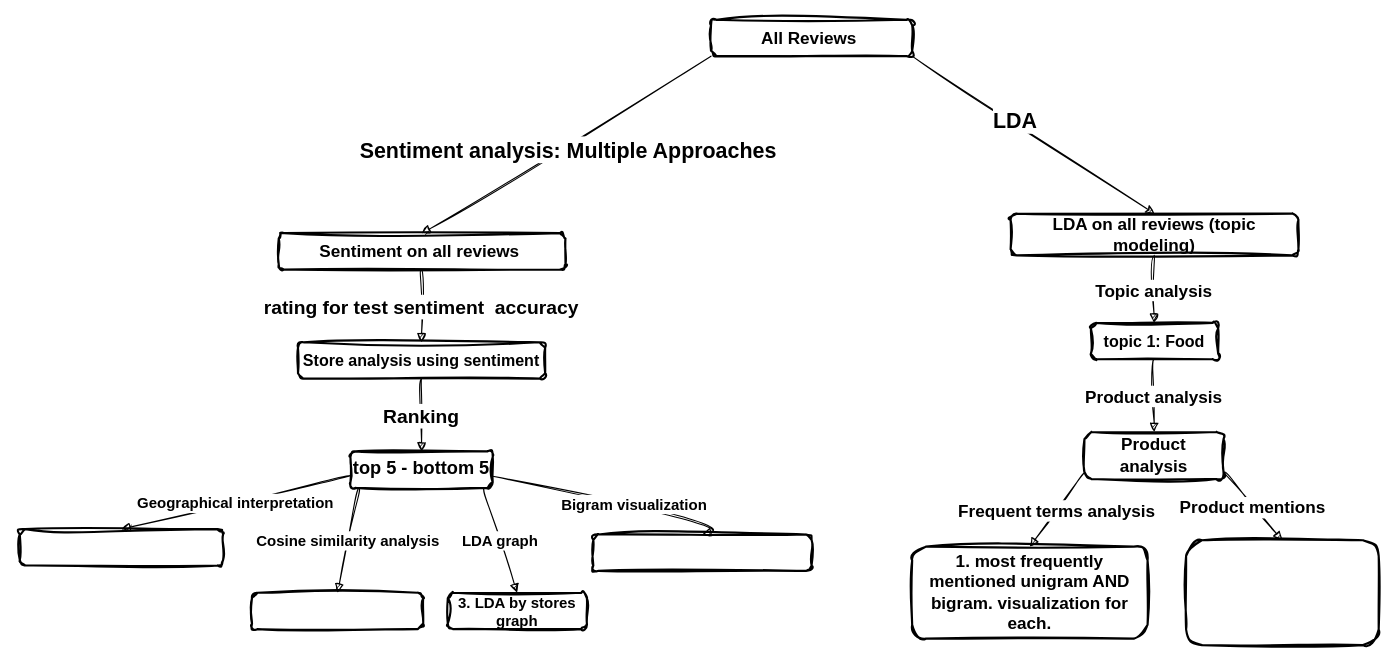
The diagram is 1397 pixels wide and 664 high, and some of its shapes have lost their labels. The centre of each missing label's shape, as x and y in pixels:
1. geographical related interpretations: the point at 121,547
2. cosine similarity + MDS: the point at 337,610
2. what product is mentioned in reviews within topic 1: the point at 1281,592
4. different combinations of bigram & map visualization.: the point at 702,552
